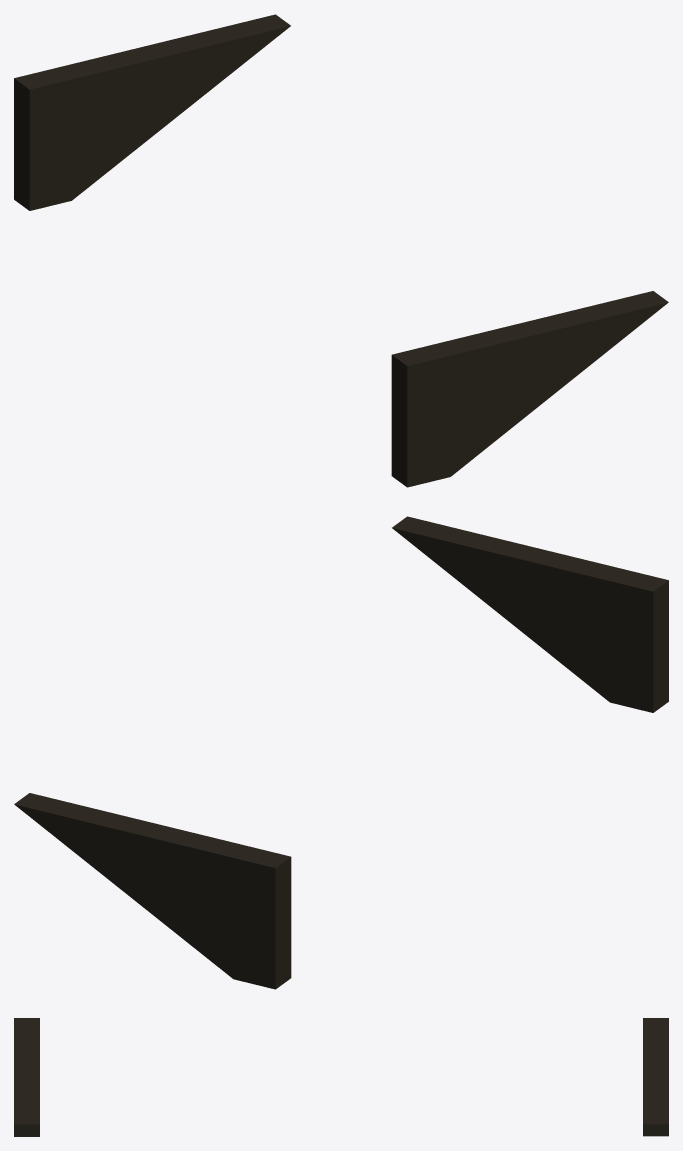
Rendered from ShelfHoldersV1.fbx.
3 renders of one model, top to bottom at view 1: azimuth 30°, elevation 25°; view 2: azimuth 150°, elevation 25°; view 3: azimuth 270°, elevation 25°, orthographic. The views are drawn at different scales.
Visible parts, largest first — view 1: Cube.002; view 2: Cube.002; view 3: Cube.002.
Boxes of the visible parts, x1,y1,x2,y2 form: Cube.002: [14, 14, 668, 487]; Cube.002: [14, 516, 668, 989]; Cube.002: [14, 1018, 668, 1136].
Bounding box in the file's own units: 1292 × 496 × 220.
